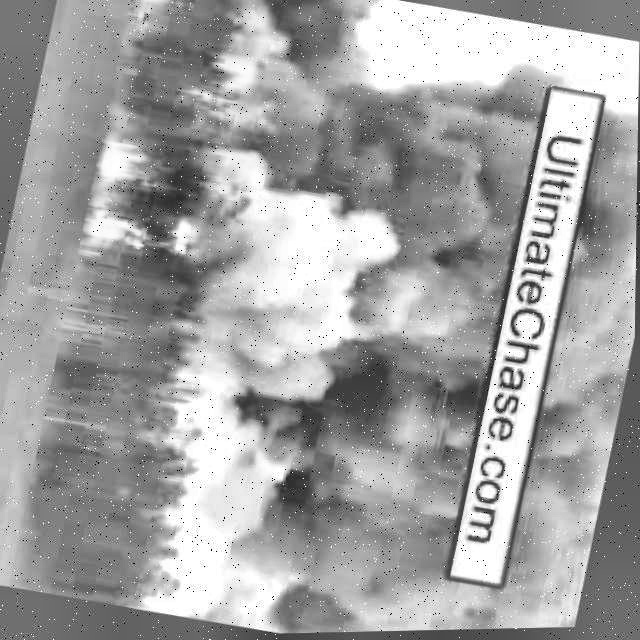Fire: (80, 124, 176, 268), (80, 145, 171, 268), (186, 83, 289, 154), (201, 86, 288, 147), (164, 213, 207, 268), (134, 0, 189, 30), (133, 0, 172, 17)
Smoke: (154, 22, 549, 637), (488, 107, 639, 631), (222, 0, 387, 104)
